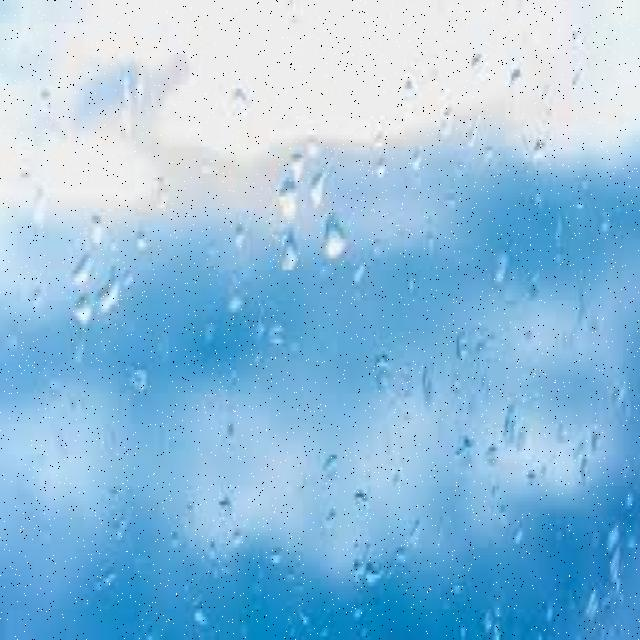raindrop: (268, 224, 308, 282), (319, 209, 352, 265), (97, 270, 125, 328), (302, 162, 332, 214), (68, 241, 96, 296), (272, 174, 300, 223), (66, 294, 96, 334)
